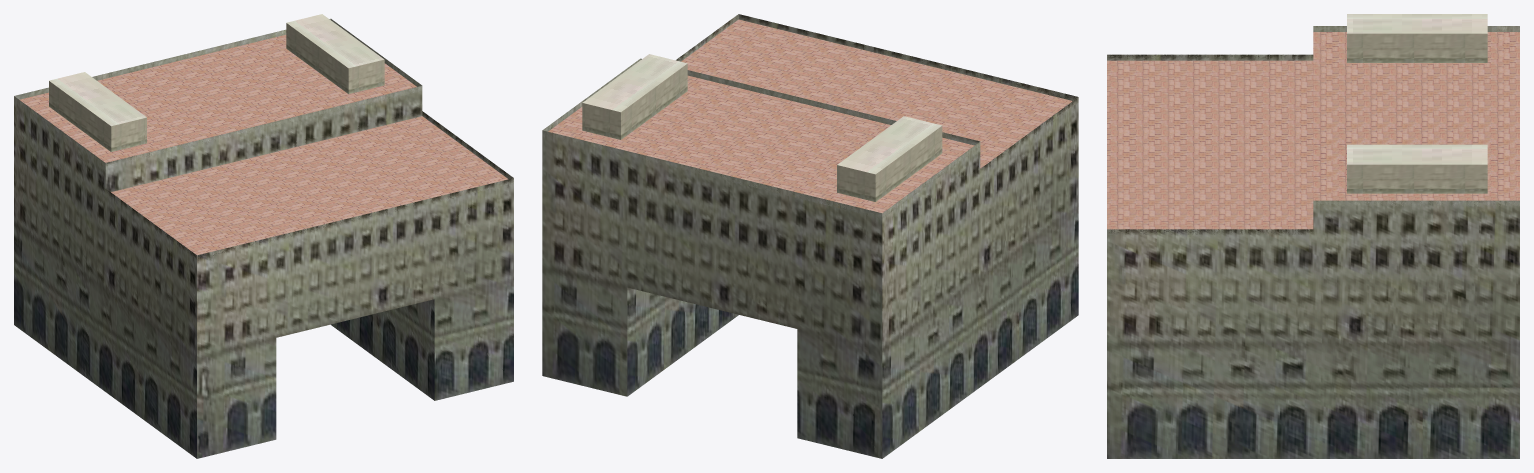
3 renders of one model, left to right at view 1: azimuth 30°, elevation 25°; view 2: azimuth 150°, elevation 25°; view 3: azimuth 270°, elevation 25°, orthographic. The views are drawn at different scales.
Parts seen in each view (by area): view 1: Object_3, Object_2, Object_1, Object_7, Object_4, Object_6, Object_5, Object_9, Object_8; view 2: Object_3, Object_2, Object_1, Object_7, Object_4, Object_9, Object_6, Object_5, Object_8; view 3: Object_3, Object_2, Object_1, Object_7, Object_4, Object_6, Object_5, Object_8, Object_9.
Part boxes in pixels (box(x1,y1,x2,y2)): Object_3: box(14, 19, 513, 458); Object_2: box(111, 116, 508, 255); Object_1: box(19, 35, 416, 162); Object_7: box(286, 23, 384, 93); Object_4: box(49, 81, 146, 151); Object_6: box(286, 14, 383, 68); Object_5: box(49, 72, 146, 126); Object_9: box(15, 19, 421, 166); Object_8: box(105, 112, 513, 258); Object_3: box(542, 14, 1078, 458); Object_2: box(681, 19, 1072, 168); Object_1: box(548, 75, 974, 213); Object_7: box(582, 64, 687, 139); Object_4: box(837, 126, 942, 201); Object_9: box(542, 59, 980, 218); Object_6: box(582, 54, 687, 112); Object_5: box(837, 116, 941, 174); Object_8: box(676, 14, 1078, 169); Object_3: box(1107, 26, 1519, 458); Object_2: box(1107, 60, 1313, 229); Object_1: box(1313, 32, 1519, 200); Object_7: box(1347, 164, 1487, 193); Object_4: box(1347, 33, 1487, 62); Object_6: box(1347, 144, 1487, 164); Object_5: box(1347, 14, 1487, 33); Object_8: box(1107, 54, 1313, 234); Object_9: box(1313, 26, 1519, 206).
Size of the model in its own units: 1283 by 1283 by 966.
Materials: 9 (9 with a texture image).
